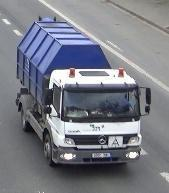truck: (17, 16, 151, 171)
